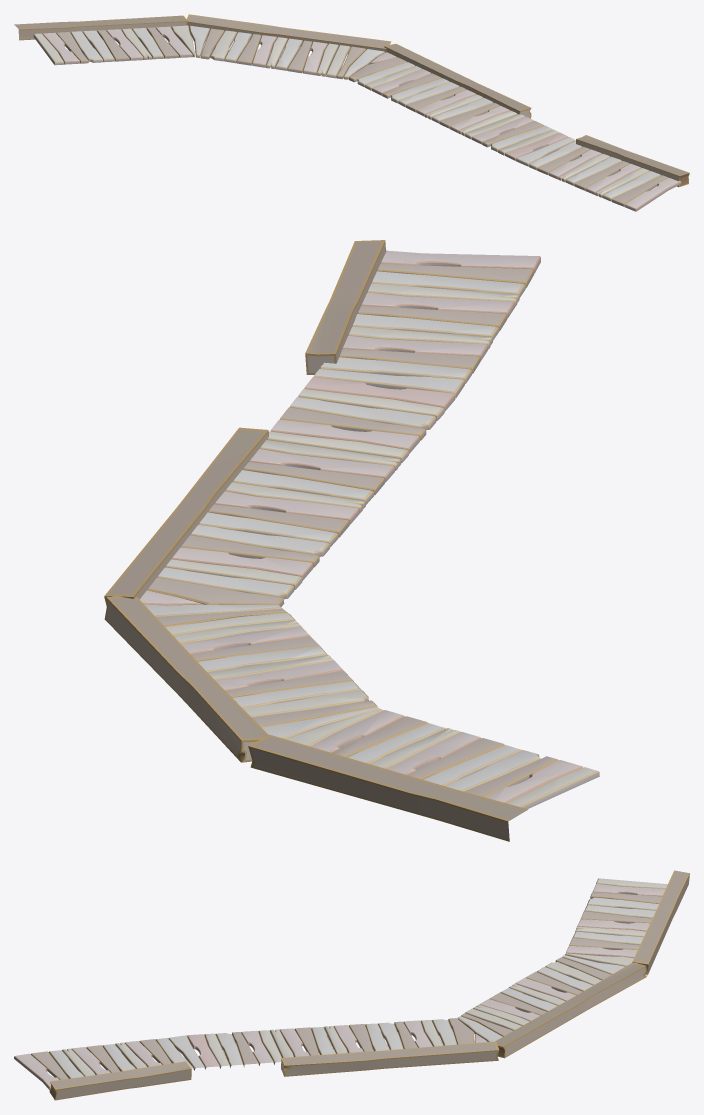
Rendered from BlizzardWoodPlatform.glb.
3 views of the same model, one above another, from view 1: azimuth 30°, elevation 25°; view 2: azimuth 150°, elevation 25°; view 3: azimuth 270°, elevation 25° (orthographic). The views are drawn at different scales.
Visible parts, largest first — view 1: BlizzardWoodPlatform; view 2: BlizzardWoodPlatform; view 3: BlizzardWoodPlatform.
Boxes of the visible parts, left/top/right/bottom form: BlizzardWoodPlatform: left=14, top=14, right=689, bottom=211; BlizzardWoodPlatform: left=104, top=240, right=599, bottom=841; BlizzardWoodPlatform: left=14, top=870, right=689, bottom=1100.
Bounding box in the file's own units: 14.92 × 1.37 × 21.76.
